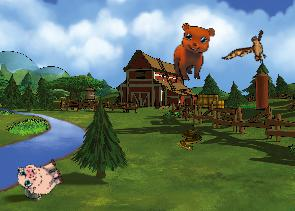bear: (173, 23, 215, 81)
eagle: (221, 20, 278, 79)
pig: (13, 151, 67, 203)
